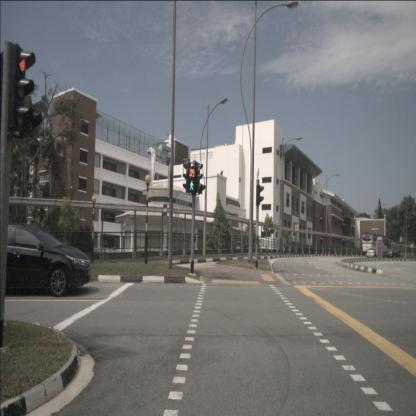vehicle-bus-rigid: (362, 232, 390, 257)
vehicle-car: (0, 223, 91, 296), (385, 248, 401, 259), (366, 248, 380, 258)
